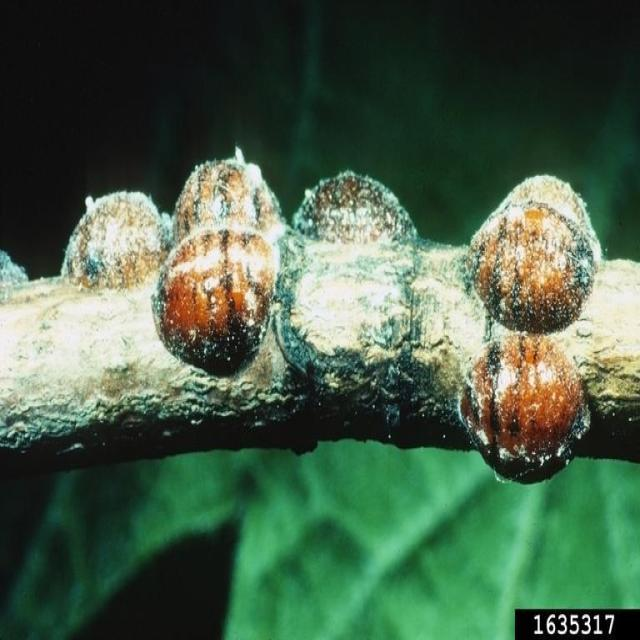BlackScale: (467, 176, 600, 331), (152, 226, 278, 372), (461, 335, 586, 464), (61, 192, 172, 287), (175, 148, 284, 242), (292, 170, 418, 241)
